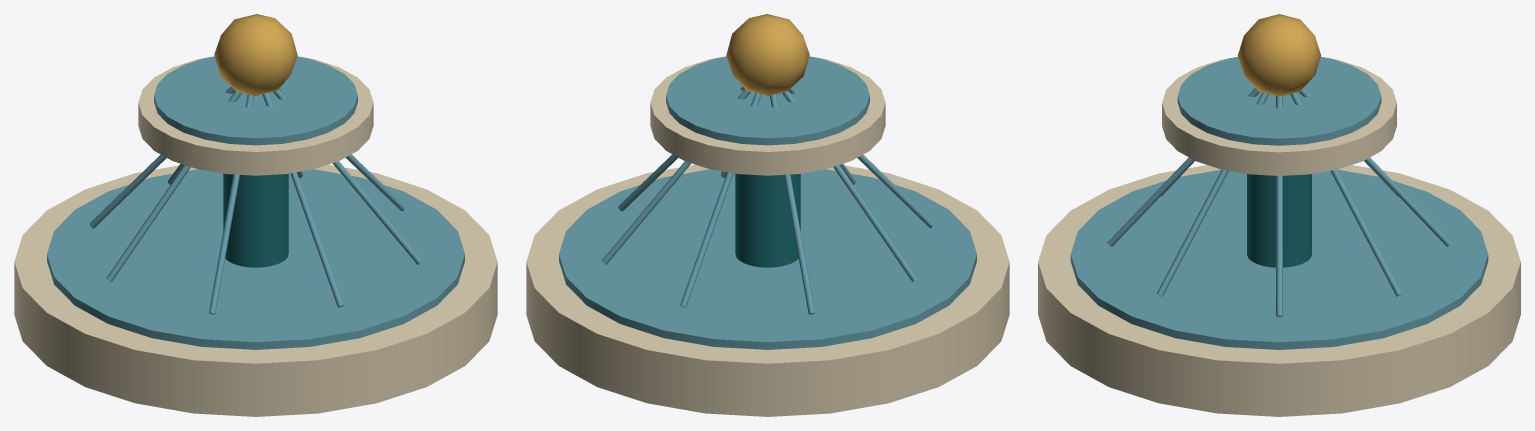
File: deco_fountain.glb
3 views of the same model, side by side, from view 1: azimuth 30°, elevation 25°; view 2: azimuth 150°, elevation 25°; view 3: azimuth 270°, elevation 25° (orthographic).
Parts seen in each view (by area): view 1: deco_fountain; view 2: deco_fountain; view 3: deco_fountain.
Part boxes in pixels (x1,y1,x2,y2): deco_fountain: (14, 14, 497, 416); deco_fountain: (526, 14, 1009, 416); deco_fountain: (1038, 14, 1520, 416).
Size of the model in its own units: 3.7 by 2.51 by 3.7.
